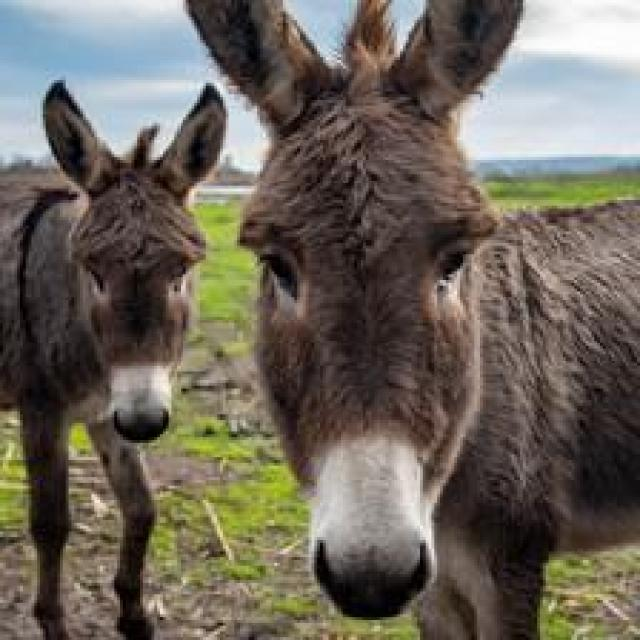Donkey: (180, 0, 637, 637), (0, 77, 226, 637)
